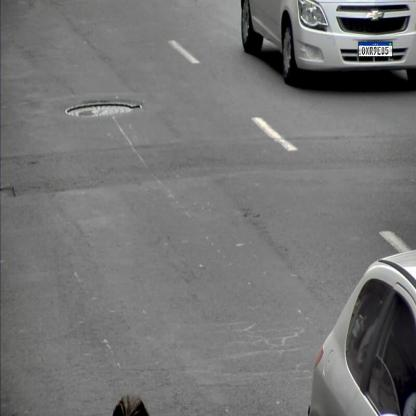PlacaM: (358, 41, 393, 57)
